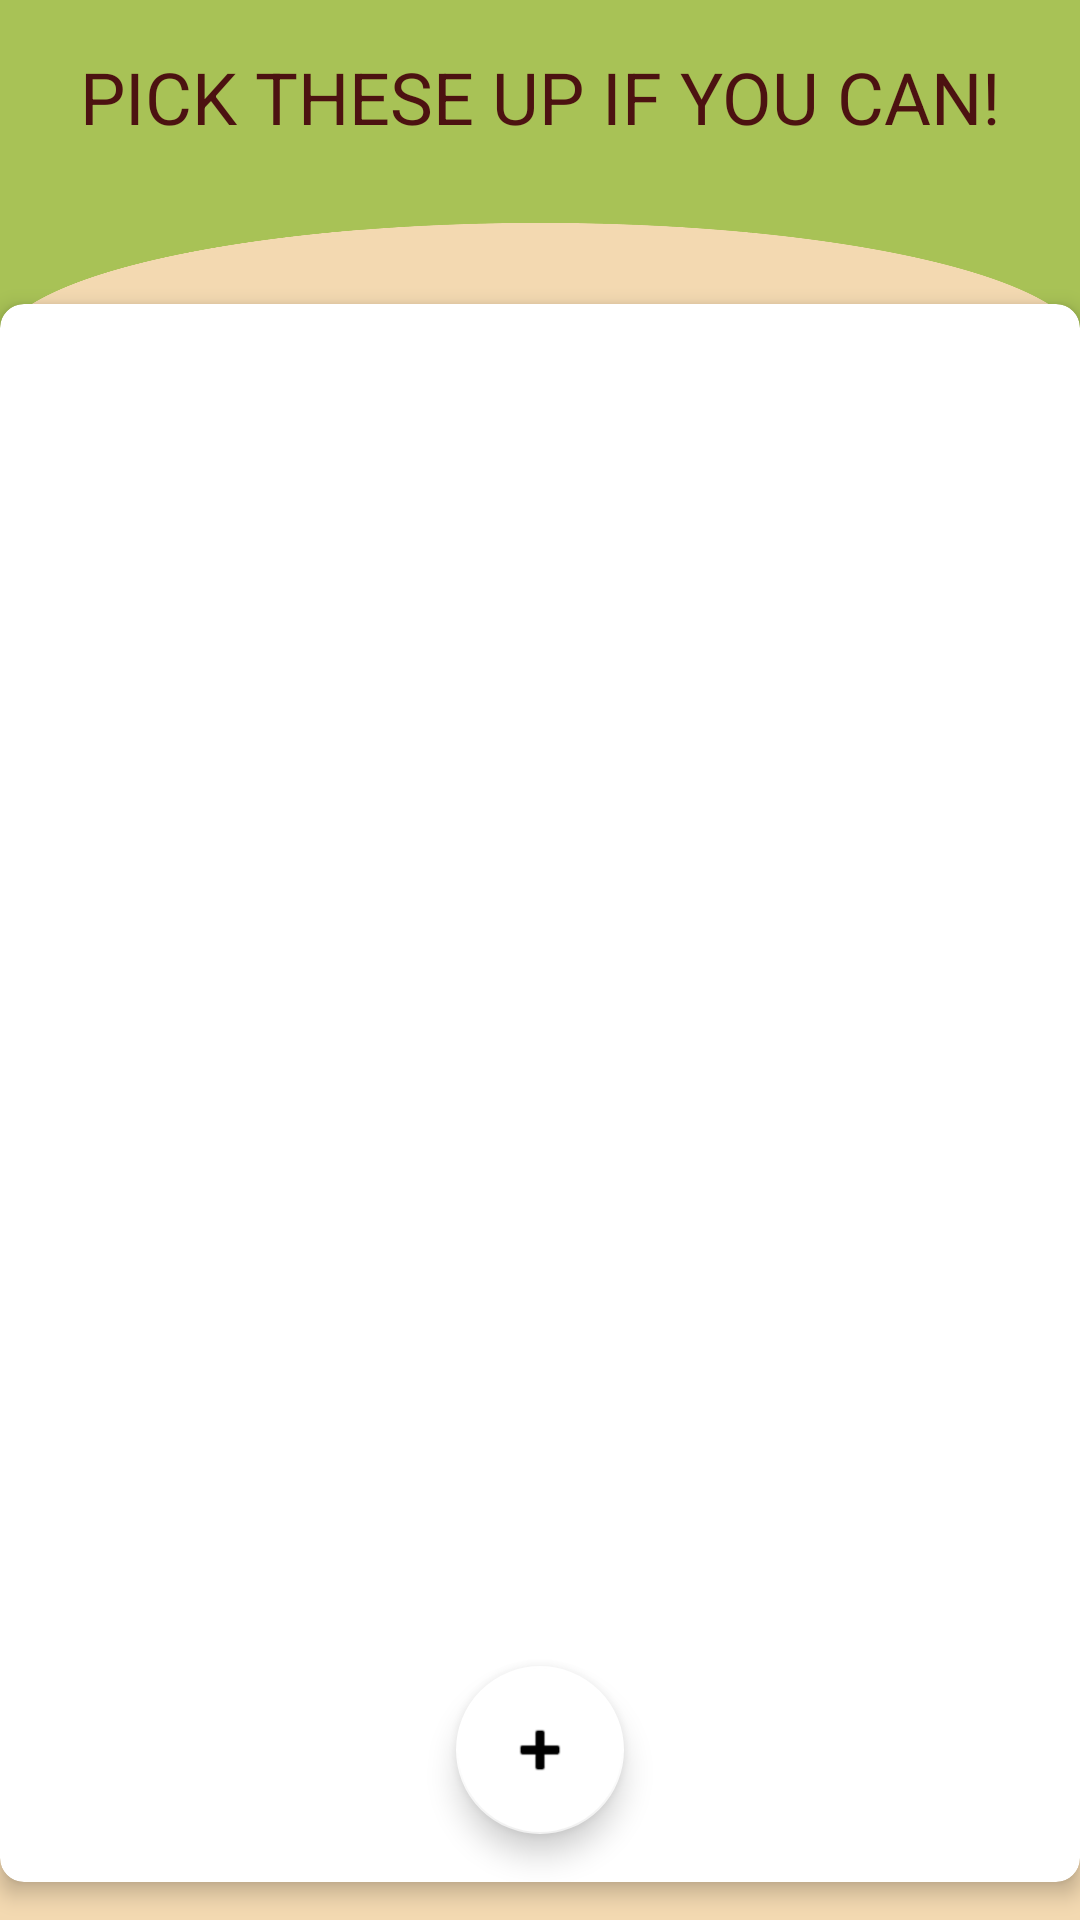

Where icons sit on this 1080 x 1920 app screen, as BBox(x1, y1, x2, y2):
add: BBox(457, 1730, 624, 1834)
